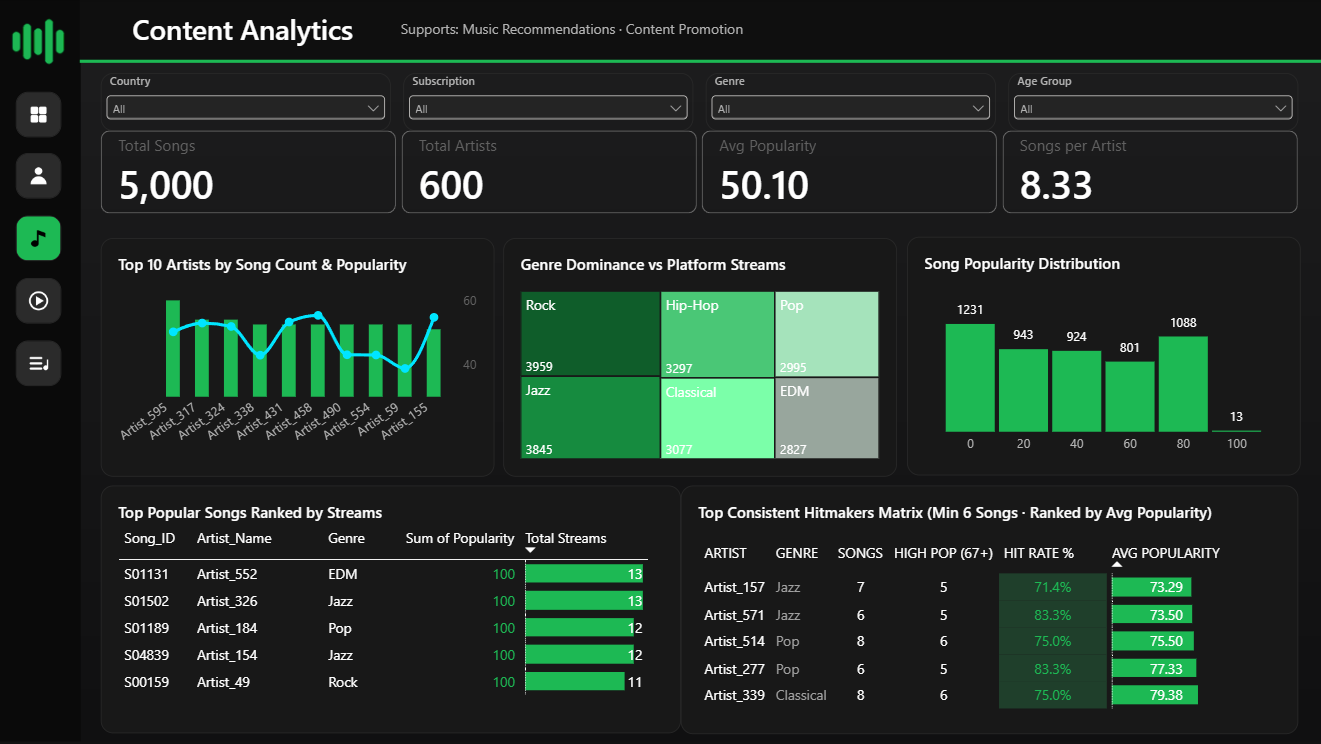

This screenshot's page, from the dashboard's own definition file:
{"tool":"powerbi","page":{"name":"Content Analytics","canvas":[1280,720],"ordinal":2},"visuals":[{"type":"textbox","box":[100.1,12.1,273.9,42.2],"z":0},{"type":"textbox","box":[390,20,700,28],"z":1000},{"type":"actionButton","box":[18,150,44,44],"z":2000},{"type":"actionButton","box":[18.1,210,44,44],"z":3000},{"type":"actionButton","box":[18,270,44,44],"z":4000},{"type":"actionButton","box":[18,330,44,44],"z":5000},{"type":"actionButton","box":[18,90,44,44],"z":6000},{"type":"slicer","title":"Country","fields":{"Values":["Users.Country"]},"box":[100,72,280,56],"z":7000},{"type":"slicer","title":"Subscription","fields":{"Values":["Users.Subscription"]},"box":[392,72,280,56],"z":8000},{"type":"slicer","title":"Age Group","fields":{"Values":["Users.Age"]},"box":[976,72,280,56],"z":9000},{"type":"slicer","title":"Country","fields":{"Values":["Artists.Genre"]},"box":[684,72,280,56],"z":10000},{"type":"cardVisual","fields":{"Data":["Artists.Total Songs","Artists.Total Artists","Artists.Avg Popularity","Artists.Songs per Artist"]},"box":[100.1,127.9,1158.2,80],"z":11000},{"type":"treemap","title":"Genre Dominance vs Platform Streams","fields":{"Group":["Artists.Genre"],"Values":["Artists.Total Streams"]},"box":[488.6,231.6,380,230],"z":12000},{"type":"lineClusteredColumnComboChart","title":"Top 10 Artists by Song Count & Popularity","fields":{"Category":["Artists.Artist_Name"],"Y":["Artists.Total Songs"],"Y2":["Artists.Avg Popularity"]},"box":[100.1,232,380,230],"z":13000},{"type":"clusteredColumnChart","title":"Song Popularity Distribution","fields":{"Category":["Songs.Popularity (bins)"],"Y":["Artists.Total Songs"]},"box":[878.3,230.4,380,230],"z":14000},{"type":"tableEx","title":"Top Popular Songs Ranked by Streams","fields":{"Values":["Songs.Song_ID","Artists.Artist_Name","Artists.Genre","Sum(Songs.Popularity)","Artists.Total Streams"]},"box":[100.1,470.5,559.8,238.9],"z":15000},{"type":"tableEx","title":"Top Consistent Hitmakers Matrix (Min 6 Songs · Ranked by Avg Popularity)","fields":{"Values":["Artists.Artist_Name","Artists.Genre","Artists.Total Songs","Artists.High Pop Songs","Artists.Hit Rate %","Avg(Songs.Popularity)"]},"box":[659.9,470.5,596,240.1],"z":16000},{"type":"image","box":[9.6,12.3,60.4,60],"z":17000}]}

Visuals, with their boxes on the page's 1280x720 design canvas (x1, y1, x2, y2). These are canvas units, not pixel positions in the 1321x744 screenshot, which may show the page scaled, cropped or inside an application window:
textbox: crop(100, 12, 374, 54)
textbox: crop(390, 20, 1090, 48)
actionButton: crop(18, 150, 62, 194)
actionButton: crop(18, 210, 62, 254)
actionButton: crop(18, 270, 62, 314)
actionButton: crop(18, 330, 62, 374)
actionButton: crop(18, 90, 62, 134)
"Country" slicer: crop(100, 72, 380, 128)
"Subscription" slicer: crop(392, 72, 672, 128)
"Age Group" slicer: crop(976, 72, 1256, 128)
"Country" slicer: crop(684, 72, 964, 128)
cardVisual - Artists.Total Songs x Artists.Total Artists: crop(100, 128, 1258, 208)
"Genre Dominance vs Platform Streams" treemap: crop(489, 232, 869, 462)
"Top 10 Artists by Song Count & Popularity" lineClusteredColumnComboChart: crop(100, 232, 480, 462)
"Song Popularity Distribution" clusteredColumnChart: crop(878, 230, 1258, 460)
"Top Popular Songs Ranked by Streams" tableEx: crop(100, 470, 660, 709)
"Top Consistent Hitmakers Matrix (Min 6 Songs · Ranked by Avg Popularity)" tableEx: crop(660, 470, 1256, 711)
image: crop(10, 12, 70, 72)
